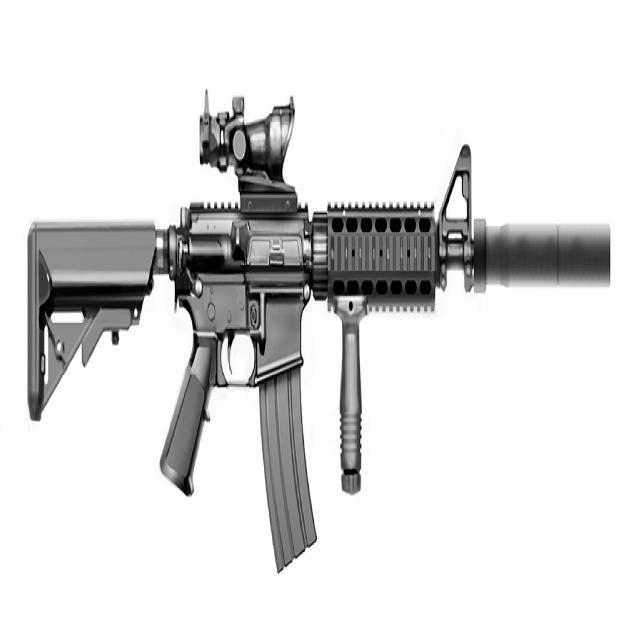rifle: (22, 191, 474, 559)
scope: (169, 72, 304, 206)
